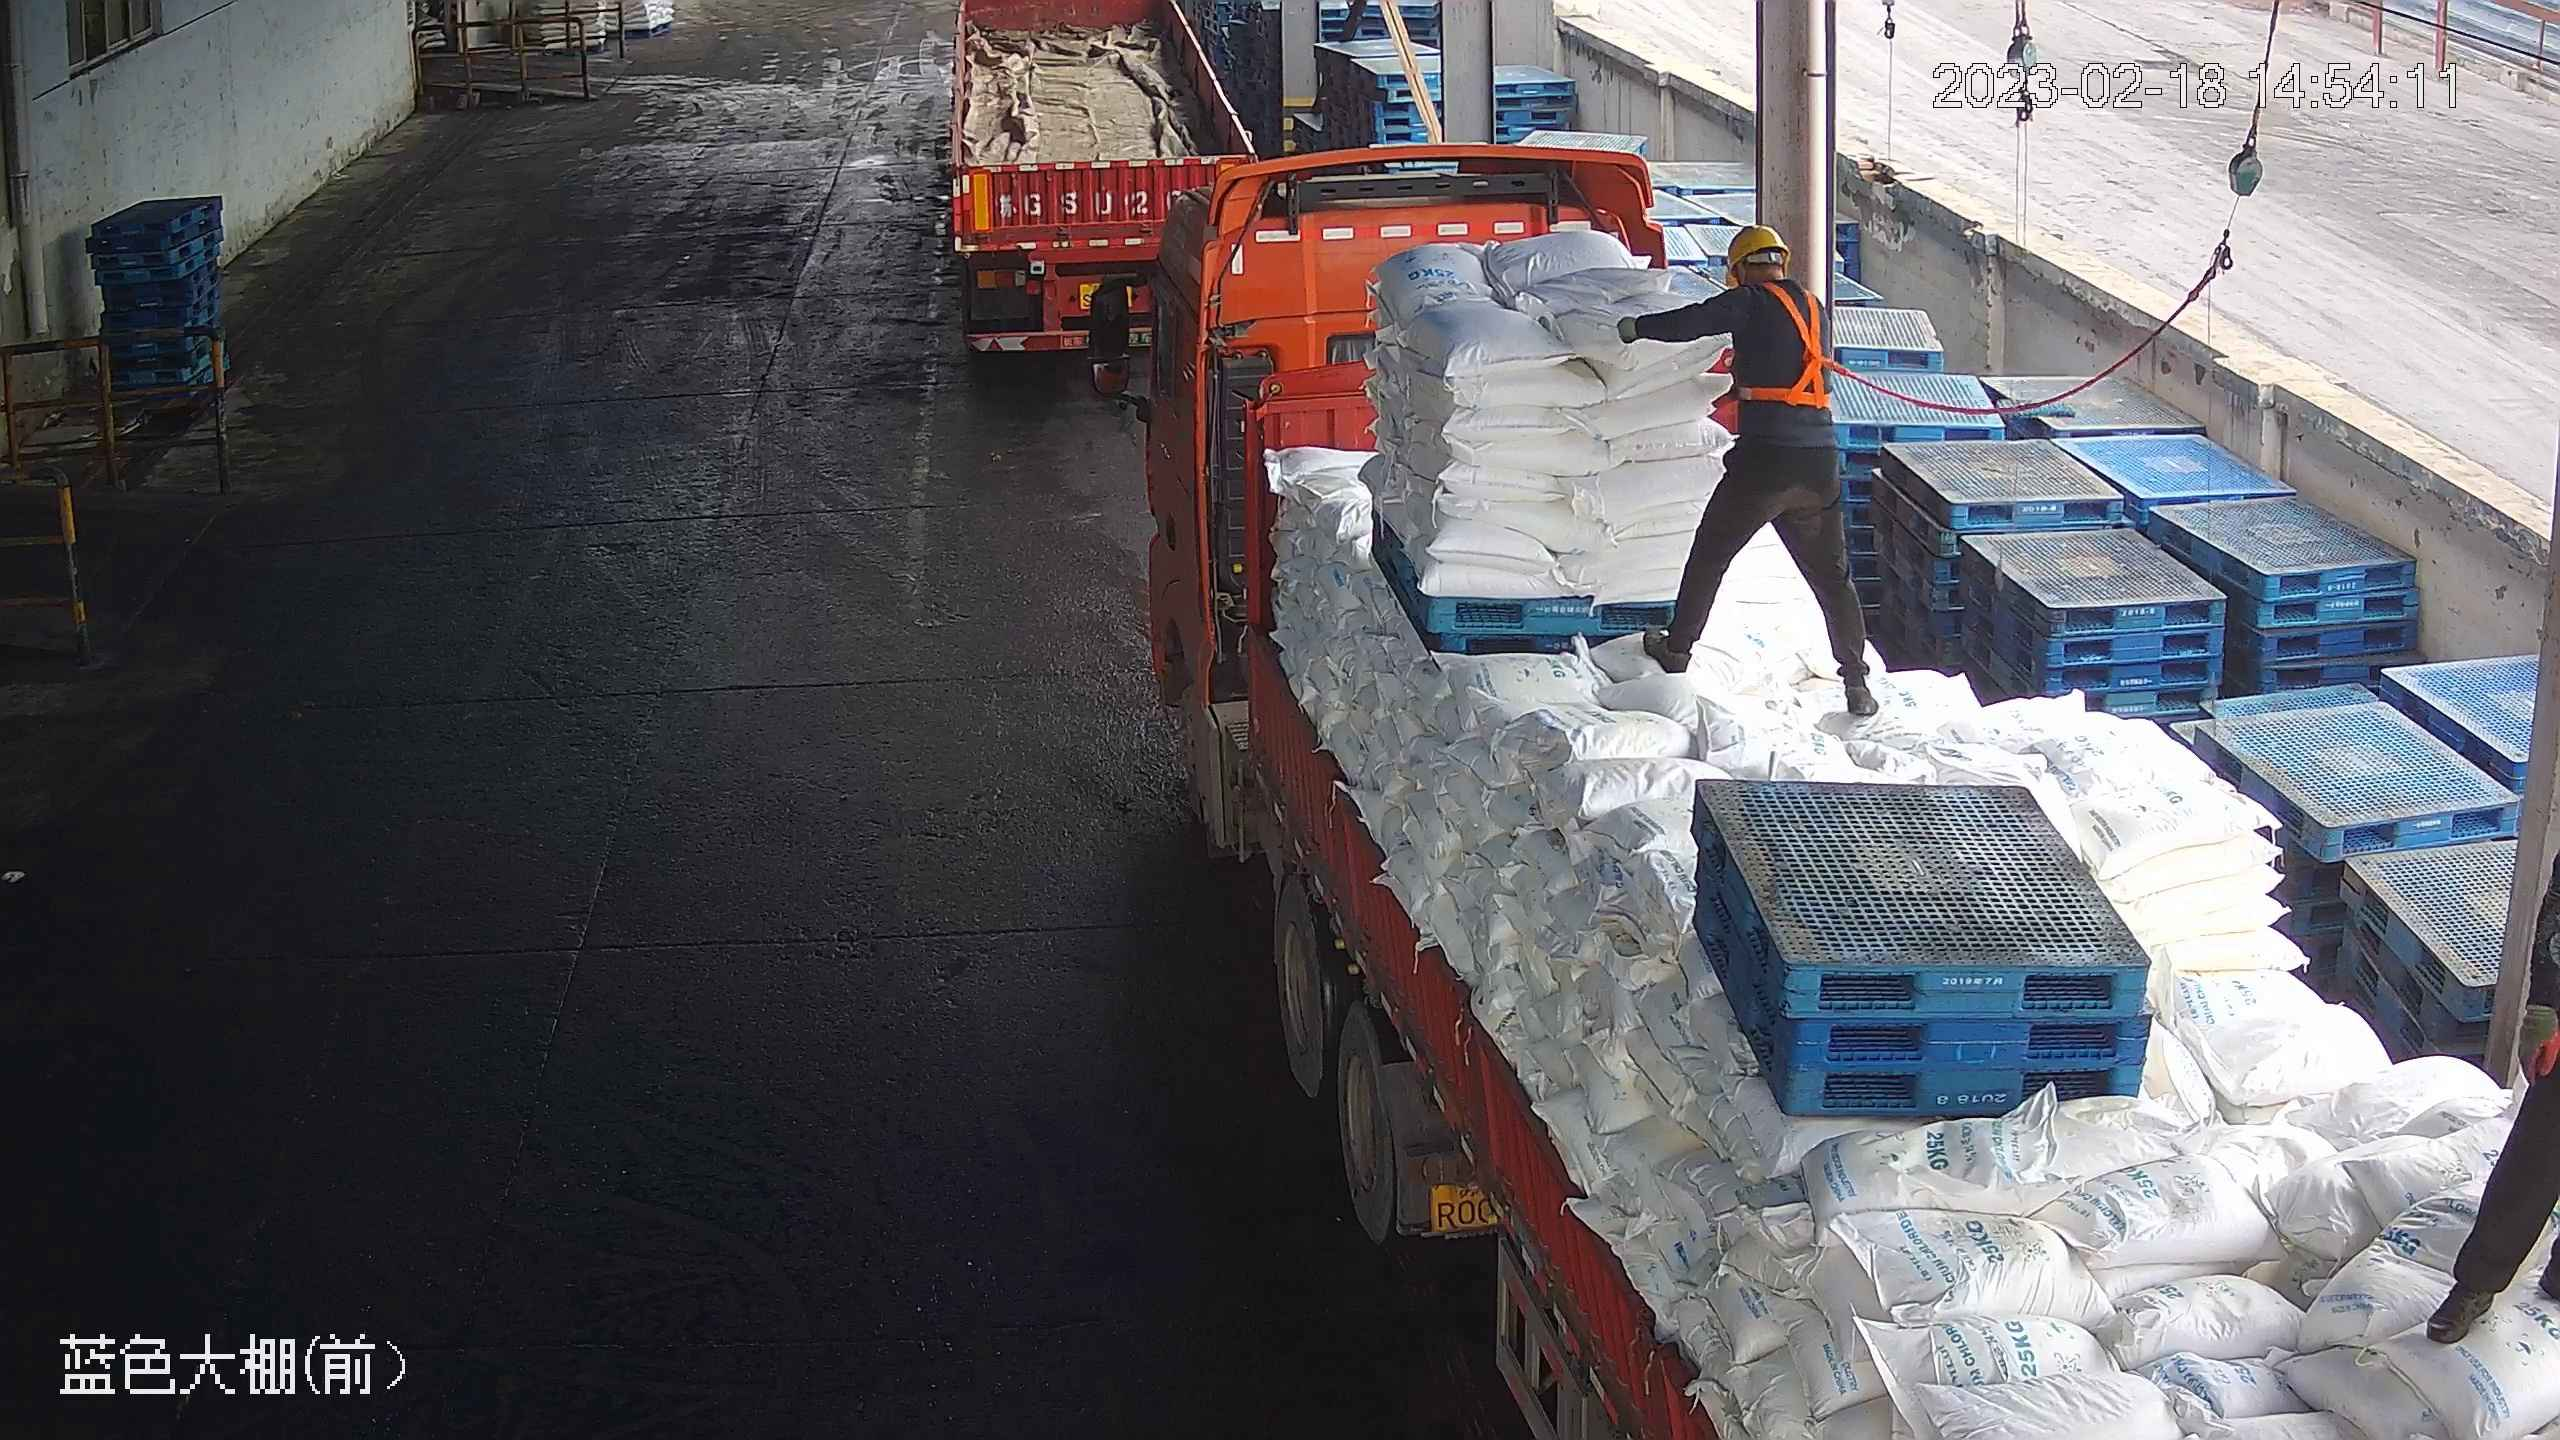belt: (1738, 281, 1842, 412)
head: (1701, 225, 1841, 341)
helmet: (1720, 223, 1789, 279)
people: (1628, 222, 1885, 711)
truck: (1075, 159, 2556, 1440), (922, 1, 1268, 366)
